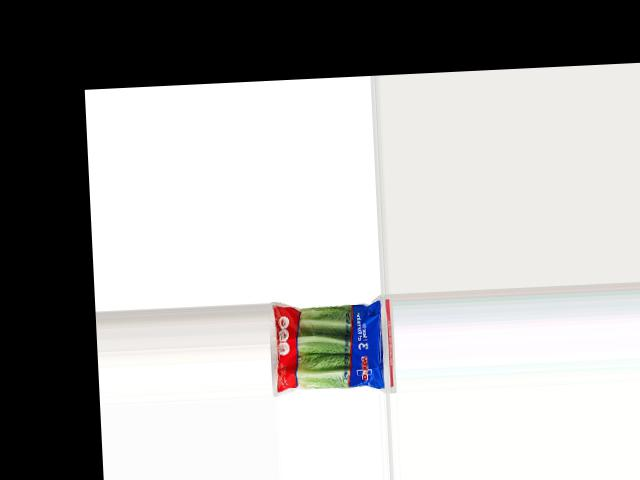lettuce: (268, 299, 390, 398)
